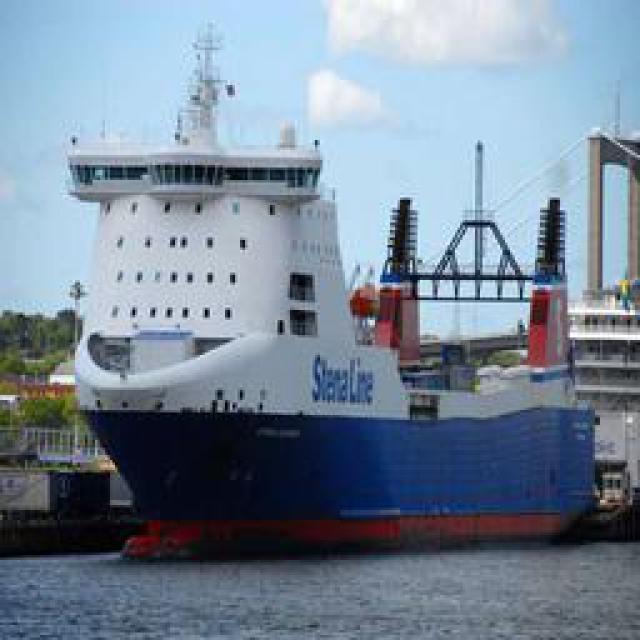Ship: (77, 114, 615, 539)
